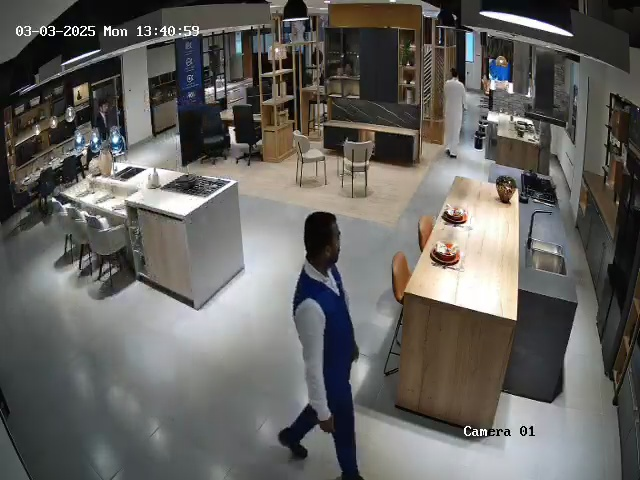employee: (277, 210, 365, 480), (96, 101, 116, 145)
male: (442, 68, 467, 159)
